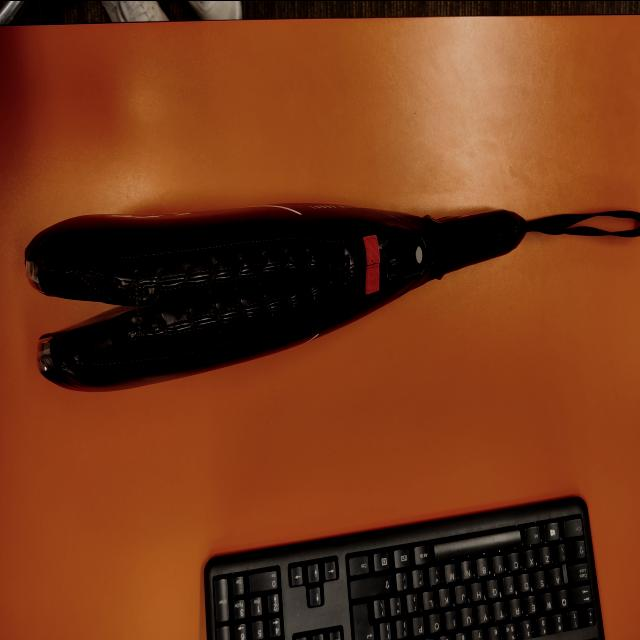paddle: (21, 200, 524, 396)
